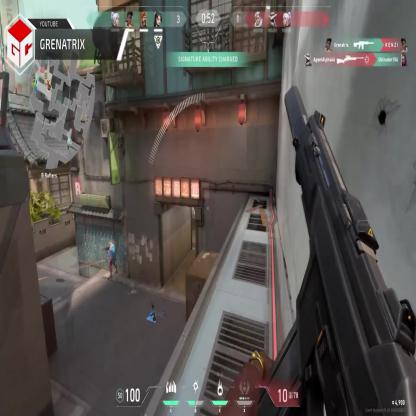enemy: (107, 241, 119, 277)
enemy_head: (109, 240, 113, 252)
